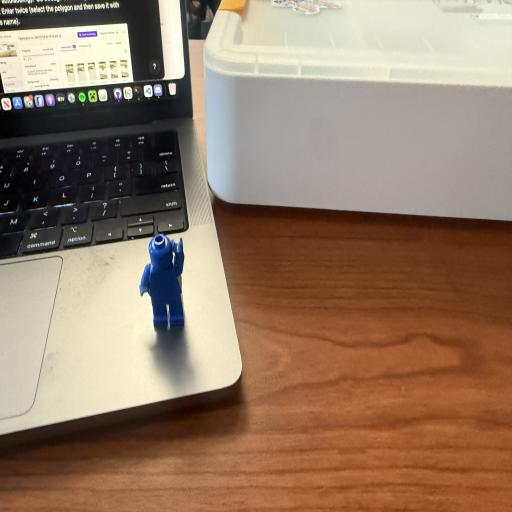Minifig: (139, 234, 184, 328)
